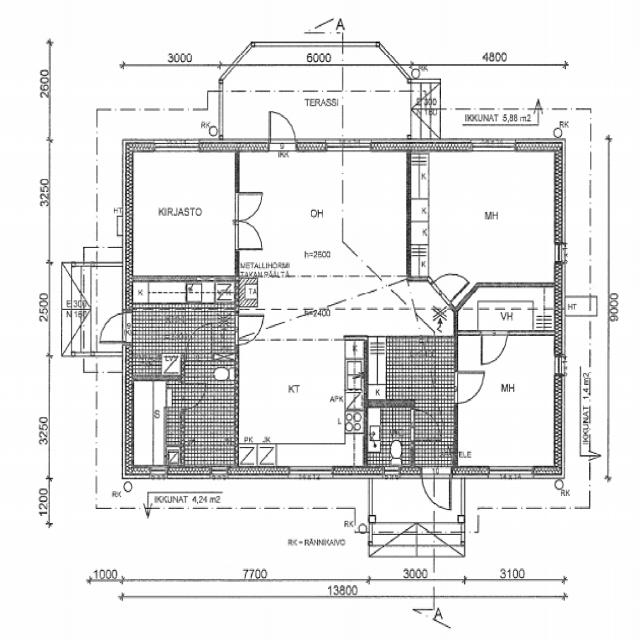door: (419, 462, 455, 512), (233, 188, 267, 240), (450, 365, 487, 406), (266, 107, 300, 151), (478, 328, 510, 367), (96, 308, 129, 345), (233, 213, 266, 250), (235, 310, 267, 342), (436, 272, 469, 303)
window: (483, 461, 538, 483), (285, 461, 336, 483), (153, 137, 202, 156), (324, 136, 374, 154), (468, 139, 517, 156), (552, 352, 568, 381), (552, 239, 567, 267), (381, 462, 402, 481), (208, 464, 230, 480), (148, 466, 168, 480)
zone: (413, 149, 561, 284), (235, 338, 366, 465), (127, 148, 238, 284), (457, 329, 560, 471), (239, 152, 346, 268), (342, 150, 409, 280), (125, 302, 238, 376), (167, 366, 240, 462), (368, 333, 460, 407), (365, 400, 440, 463), (472, 285, 556, 334), (130, 278, 188, 308), (184, 276, 237, 306), (420, 80, 441, 116)
